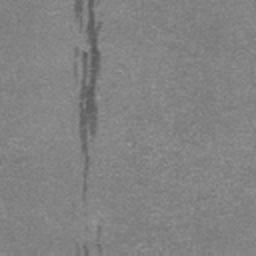Red iron sheet: (74, 0, 102, 179), (83, 245, 89, 256)
